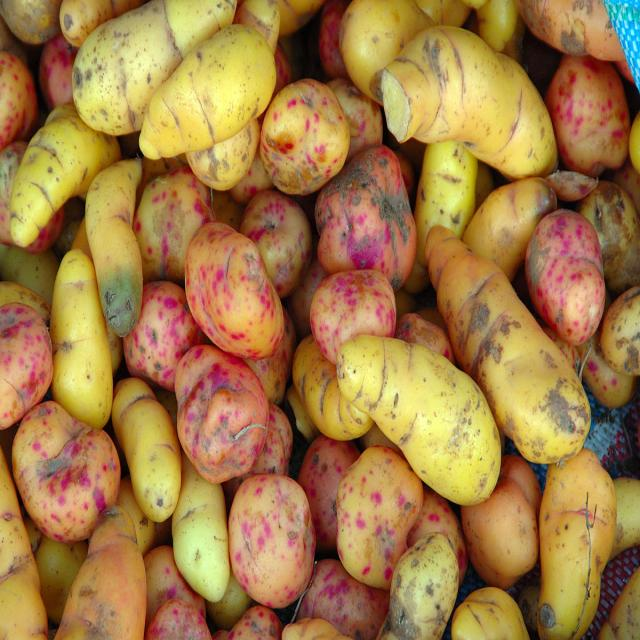potato: (340, 332, 500, 501), (132, 25, 280, 160), (51, 252, 115, 422), (176, 470, 237, 600)
